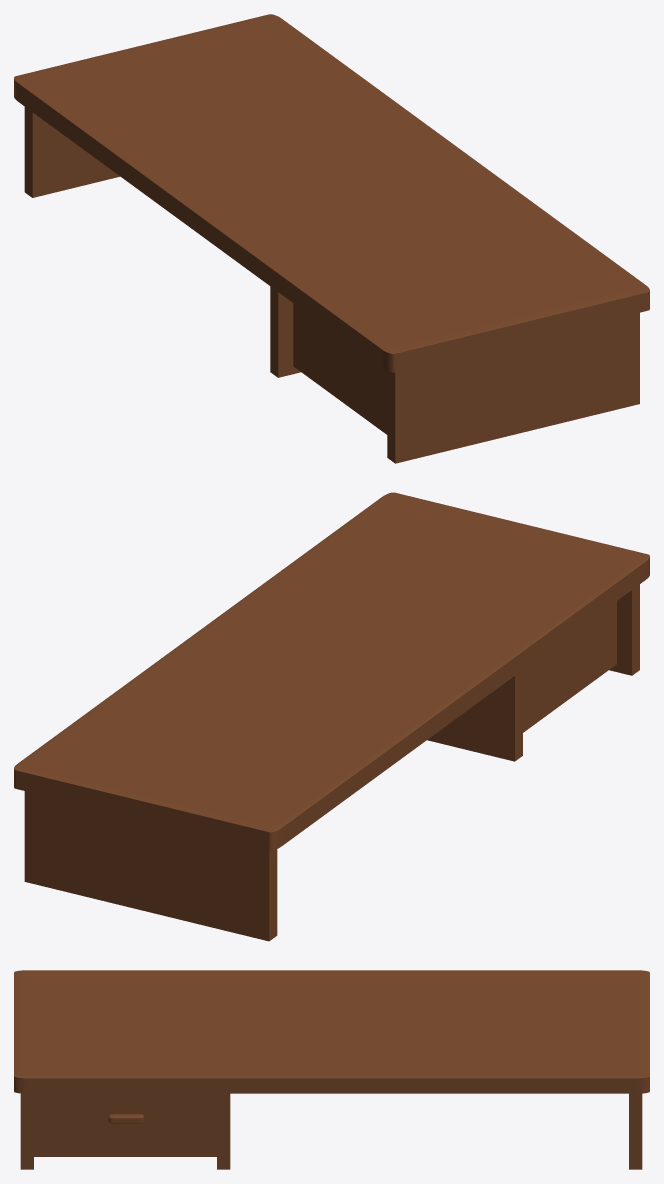
File: MESA.fbx
3 renders of one model, top to bottom at view 1: azimuth 30°, elevation 25°; view 2: azimuth 150°, elevation 25°; view 3: azimuth 270°, elevation 25°, orthographic. The views are drawn at different scales.
Visible parts, largest first — view 1: Cube, Cube.002, Cube.001, Cube.004, Cube.003; view 2: Cube, Cube.004, Cube.001, Cube.003, Cube.002; view 3: Cube, Cube.001, Cube.002, Cube.003, Cube.004, Cube.005.
Boxes of the visible parts, x1,y1,x2,y2 form: Cube: (14, 14, 649, 372); Cube.002: (387, 312, 639, 463); Cube.001: (293, 303, 387, 434); Cube.004: (24, 107, 119, 197); Cube.003: (270, 286, 300, 377); Cube: (14, 492, 649, 850); Cube.004: (24, 791, 277, 941); Cube.001: (523, 601, 616, 732); Cube.003: (427, 670, 522, 761); Cube.002: (609, 584, 639, 675); Cube: (14, 970, 649, 1093); Cube.001: (34, 1093, 216, 1156); Cube.002: (20, 1093, 33, 1169); Cube.003: (217, 1093, 230, 1169); Cube.004: (629, 1093, 642, 1169); Cube.005: (108, 1114, 143, 1123).
Bounding box in the file's own units: 257 × 106 × 641.
